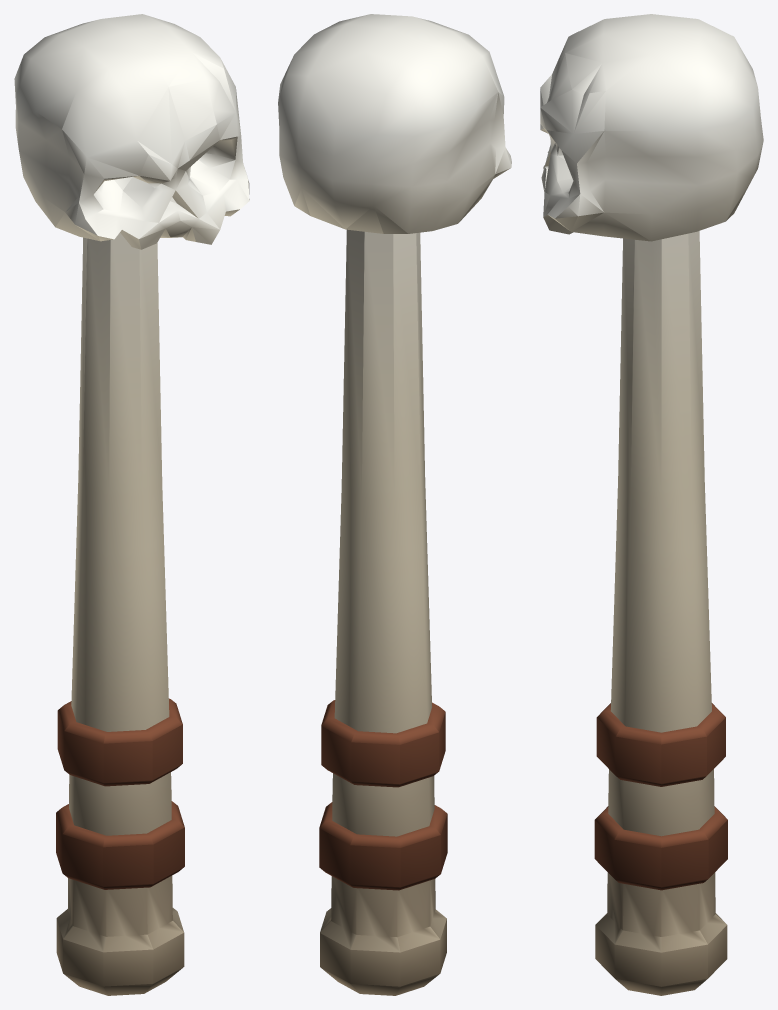
The model's file is wand_bone.glb.
3 renders of one model, left to right at view 1: azimuth 30°, elevation 25°; view 2: azimuth 150°, elevation 25°; view 3: azimuth 270°, elevation 25°, orthographic.
Parts seen in each view (by area): view 1: Item; view 2: Item; view 3: Item.
Part boxes in pixels (x1,y1,x2,y2): Item: (14, 14, 249, 995); Item: (278, 14, 511, 995); Item: (540, 14, 763, 995).
Size of the model in its own units: 0.2189 by 1.11 by 0.2372.
Materials: 1 (1 with a texture image).
